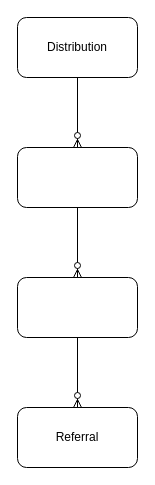
Some shapes in this 155 by 485 pixel diagram are drawn without their labels. Here are the shapes that lost their labels. From the top down, the centre of each, then its label:
At pixel 77 177: "DistributorType".
At pixel 77 307: "Distributor".
